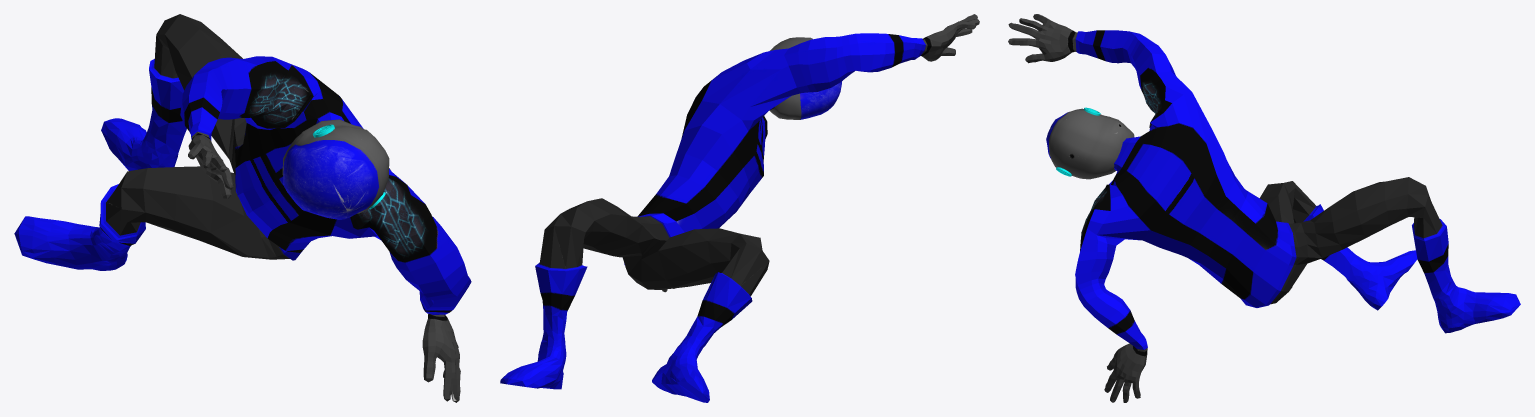
3 views of the same model, side by side, from view 1: azimuth 30°, elevation 25°; view 2: azimuth 150°, elevation 25°; view 3: azimuth 270°, elevation 25° (orthographic). The views are drawn at different scales.
Parts seen in each view (by area): view 1: Brazos2, Piernas1, Cabeza1; view 2: Brazos2, Piernas1, Cabeza1; view 3: Brazos2, Piernas1, Cabeza1.
Part boxes in pixels (bbox=[...]): Brazos2: bbox=[180, 56, 471, 402]; Piernas1: bbox=[14, 14, 289, 270]; Cabeza1: bbox=[282, 119, 389, 219]; Brazos2: bbox=[624, 14, 979, 292]; Piernas1: bbox=[500, 198, 769, 402]; Cabeza1: bbox=[769, 37, 841, 119]; Brazos2: bbox=[1008, 14, 1296, 402]; Piernas1: bbox=[1259, 177, 1520, 333]; Cabeza1: bbox=[1046, 107, 1134, 179].
Size of the model in its own units: 91.58 by 99.07 by 162.
